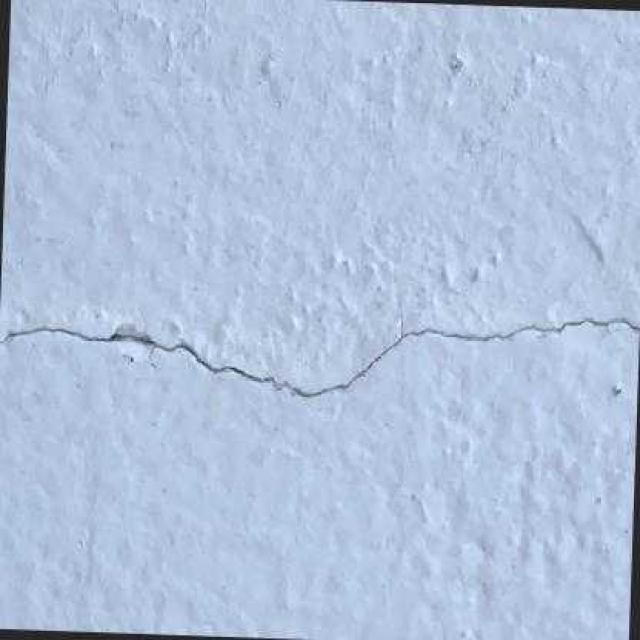D00: (0, 296, 640, 401)
